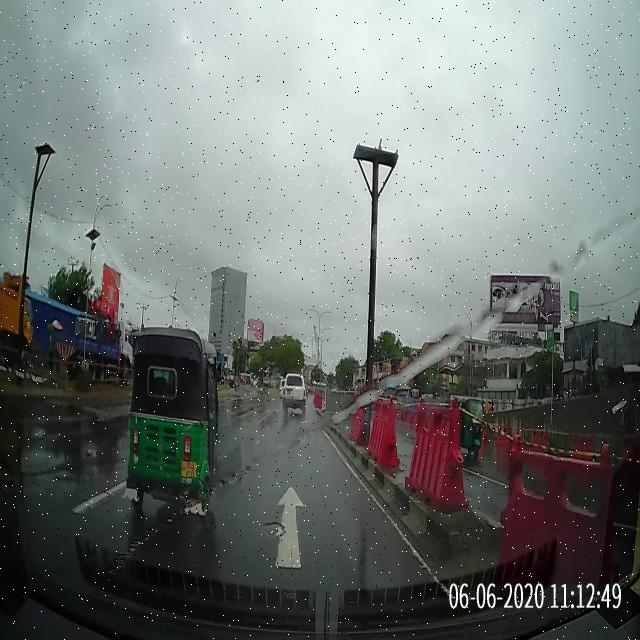forward: (115, 485, 431, 569)
